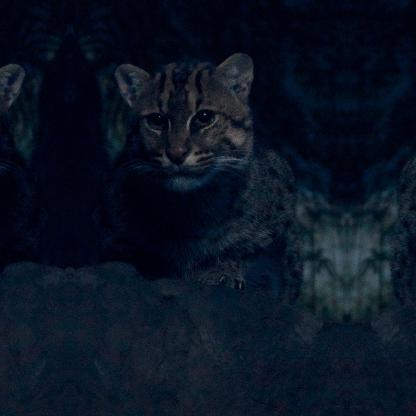Cat: (84, 48, 304, 308), (0, 48, 55, 309)
